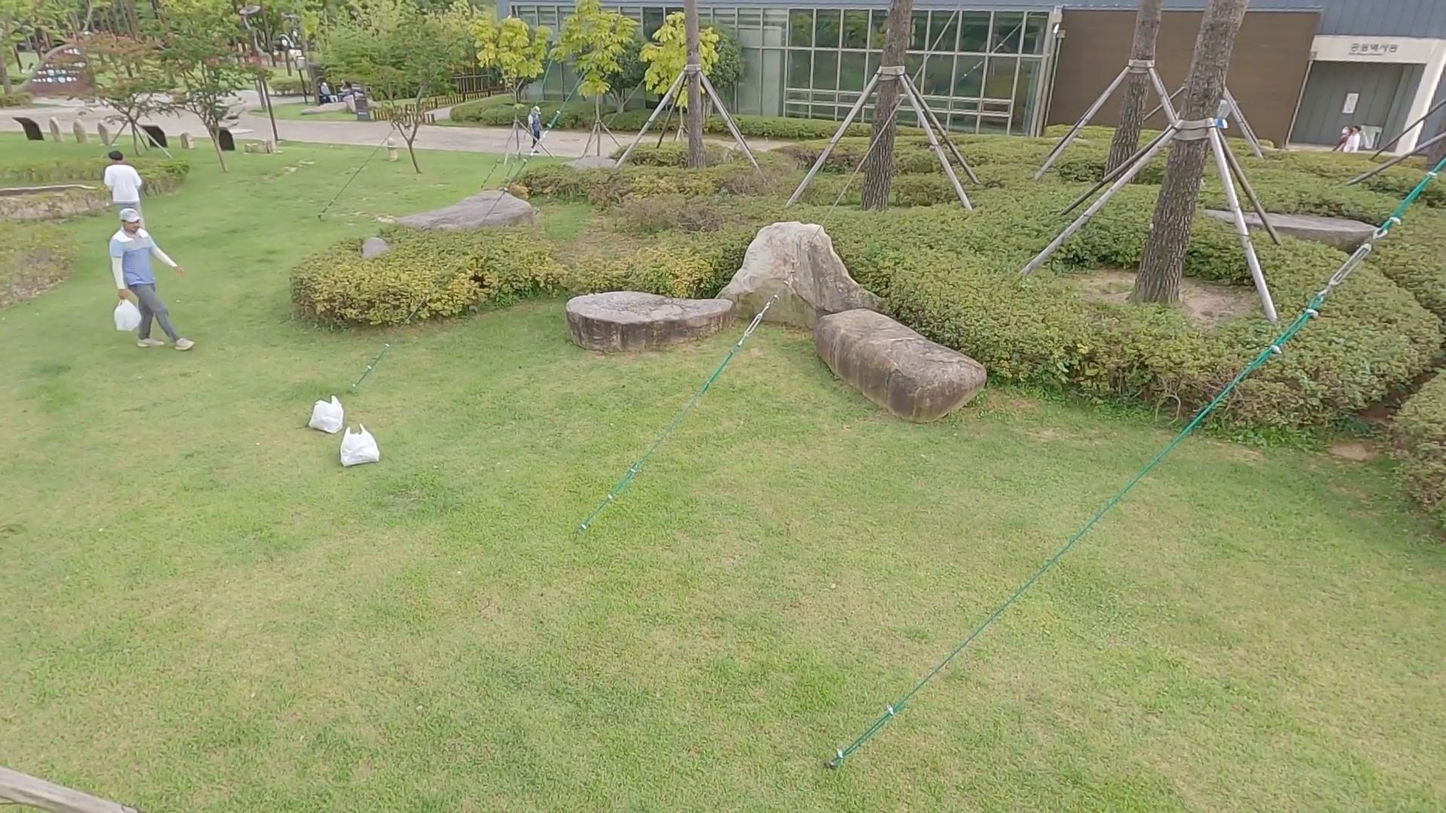person: (96, 208, 202, 355), (98, 148, 159, 270), (520, 106, 544, 150)
trash: (330, 415, 381, 468), (306, 393, 347, 435), (107, 299, 149, 339)
